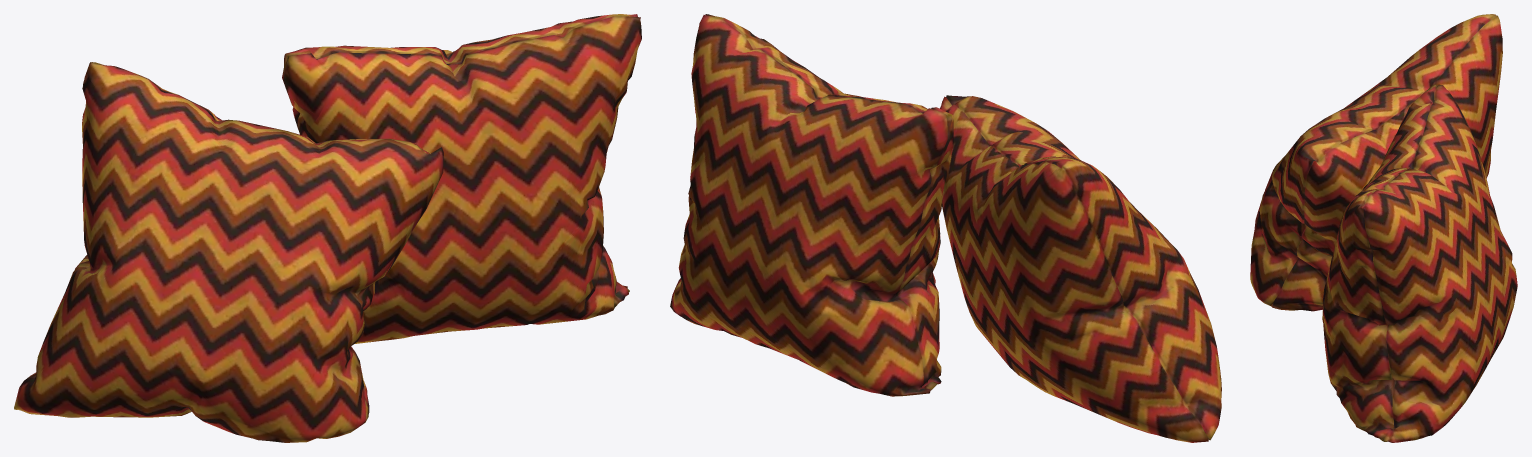
Rendered from kissen.glb.
The picture shows the model from 3 angles, left to right: view 1: azimuth 30°, elevation 25°; view 2: azimuth 150°, elevation 25°; view 3: azimuth 270°, elevation 25°; orthographic projection. The views are drawn at different scales.
Parts seen in each view (by area): view 1: throw_pillows_01_pillow02; view 2: throw_pillows_01_pillow02; view 3: throw_pillows_01_pillow02.
Boxes of the visible parts, x1=… form: throw_pillows_01_pillow02: x1=14, y1=14, x2=641, y2=442; throw_pillows_01_pillow02: x1=670, y1=14, x2=1221, y2=442; throw_pillows_01_pillow02: x1=1250, y1=14, x2=1517, y2=442.
Size of the model in its own units: 0.9401 by 0.4502 by 0.4519.
Materials: 1 (1 with a texture image).
